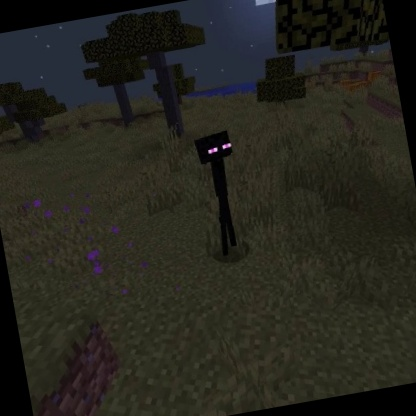enderman: (189, 126, 255, 261)
